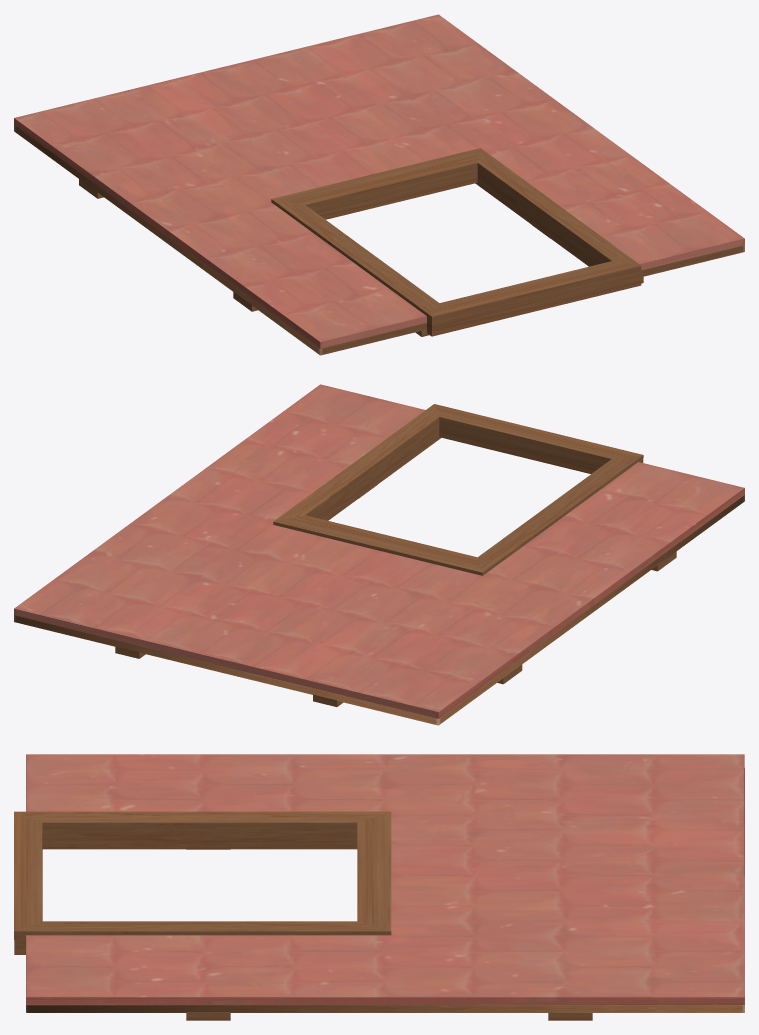
File: sm_building_wapian03_02.FBX
The picture shows the model from 3 angles, top to bottom: view 1: azimuth 30°, elevation 25°; view 2: azimuth 150°, elevation 25°; view 3: azimuth 270°, elevation 25°; orthographic projection. The views are drawn at different scales.
Parts seen in each view (by area): view 1: Cube_12.007, 立方体.135, Cube_12.010, Cube_12.008; view 2: Cube_12.007, 立方体.135, Cube_12.010, Cube_12.008; view 3: Cube_12.007, 立方体.135, Cube_12.010, Cube_12.008.
Part boxes in pixels (x1,y1,x2,y2): Cube_12.007: (14, 14, 744, 348); 立方体.135: (271, 148, 641, 336); Cube_12.010: (14, 125, 744, 355); Cube_12.008: (79, 179, 643, 336); Cube_12.007: (14, 384, 744, 718); 立方体.135: (273, 404, 643, 575); Cube_12.010: (14, 495, 744, 725); Cube_12.008: (115, 437, 676, 706); Cube_12.007: (26, 754, 744, 1005); 立方体.135: (14, 811, 391, 954); Cube_12.010: (26, 768, 744, 1012); Cube_12.008: (42, 846, 592, 1020).
Bounding box in the file's own units: 512 × 26.48 × 651.
Materials: 1 (1 with a texture image).
